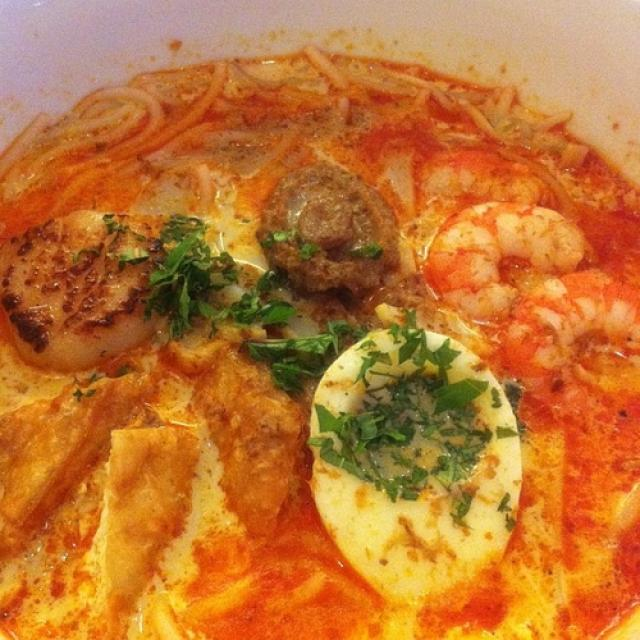面条主食: (15, 21, 617, 618)
